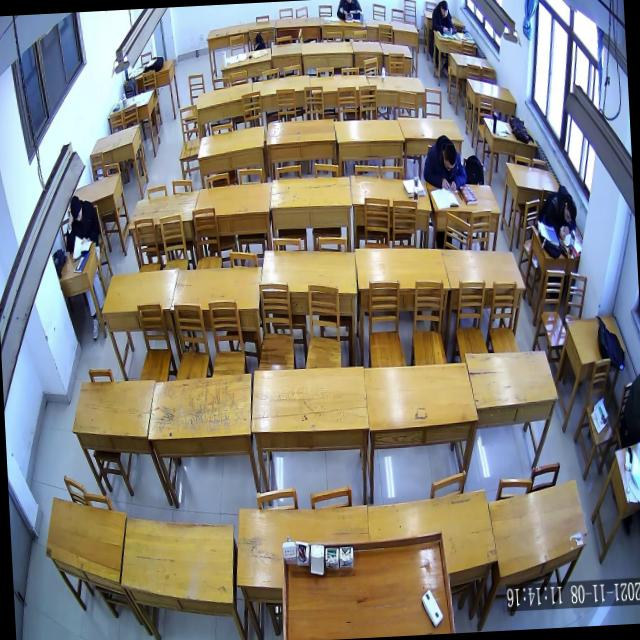down: (441, 142, 458, 174), (562, 196, 578, 228), (70, 194, 84, 223), (438, 0, 450, 20)
sit: (420, 132, 466, 195), (538, 183, 580, 243), (62, 193, 102, 255), (430, 0, 456, 36)
